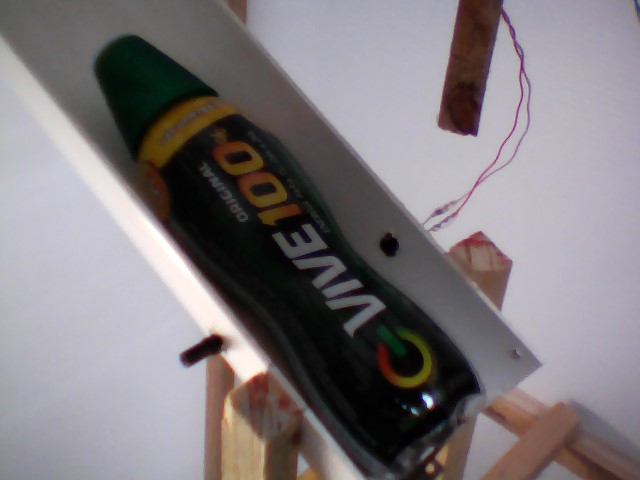plastico: (85, 31, 486, 480)
